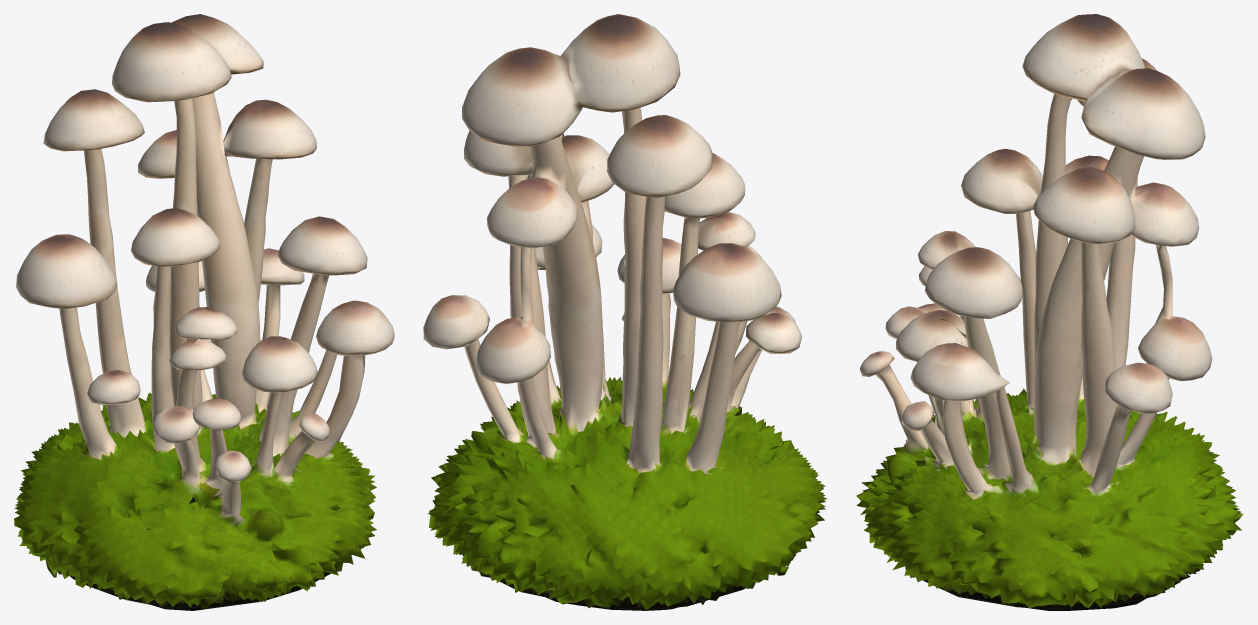
The model's file is forest_mushroom_cluster.glb.
3 views of the same model, side by side, from view 1: azimuth 30°, elevation 25°; view 2: azimuth 150°, elevation 25°; view 3: azimuth 270°, elevation 25° (orthographic). The views are drawn at different scales.
Size of the model in its own units: 1.27 by 1.91 by 1.26.
Materials: 1 (1 with a texture image).
